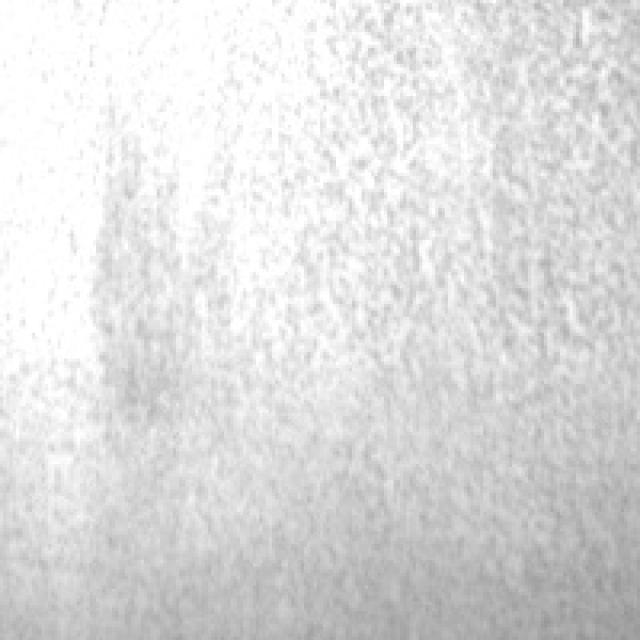pitted_surface: (92, 0, 634, 368)
